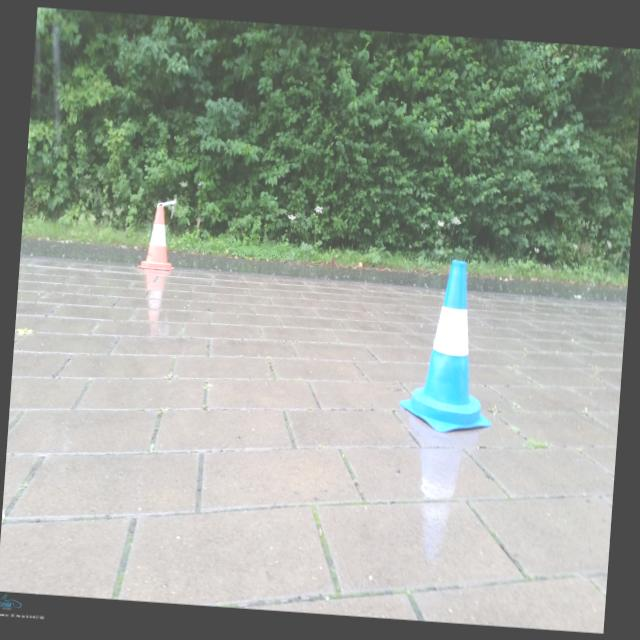blue_cone: (398, 255, 502, 436)
orange_cone: (137, 204, 178, 270)
